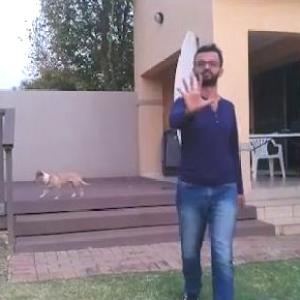follow_hand: (168, 68, 222, 120)
